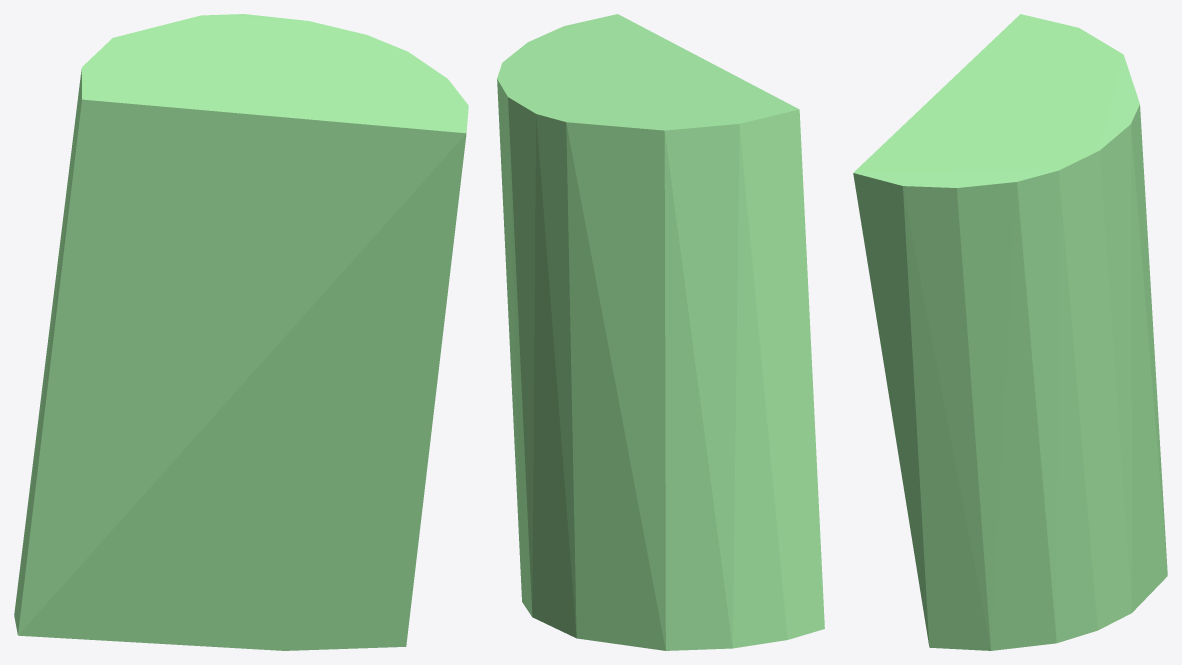
The model's file is UMIRobot_UMIRobot_link_5_convex_coll_1.dae.
3 views of the same model, side by side, from view 1: azimuth 30°, elevation 25°; view 2: azimuth 150°, elevation 25°; view 3: azimuth 270°, elevation 25° (orthographic). The views are drawn at different scales.
Parts seen in each view (by area): view 1: node; view 2: node; view 3: node.
Boxes of the visible parts, box(x1,y1,x2,y2) form: node: box(14, 14, 468, 650); node: box(497, 14, 824, 650); node: box(853, 14, 1167, 650).
Size of the model in its own units: 0.00531 by 0.00778 by 0.00431.
